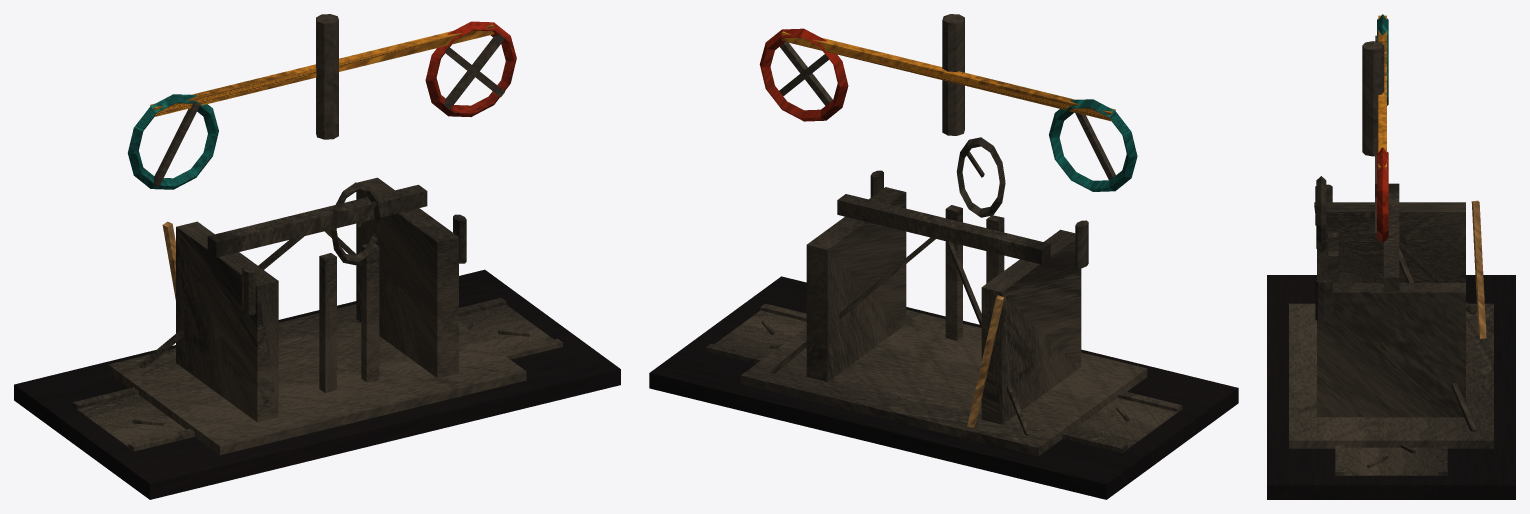
Rendered from canal-segment-a-marker.glb.
The picture shows the model from 3 angles, left to right: view 1: azimuth 30°, elevation 25°; view 2: azimuth 150°, elevation 25°; view 3: azimuth 270°, elevation 25°; orthographic projection. The views are drawn at different scales.
Parts seen in each view (by area): view 1: canal-segment-a-marker; view 2: canal-segment-a-marker; view 3: canal-segment-a-marker.
Boxes of the visible parts, bbox=[...] form: canal-segment-a-marker: bbox=[14, 14, 620, 499]; canal-segment-a-marker: bbox=[649, 14, 1238, 499]; canal-segment-a-marker: bbox=[1267, 14, 1515, 499].
Size of the model in its own units: 6.8 by 5.26 by 3.4.
Materials: 1 (1 with a texture image).
